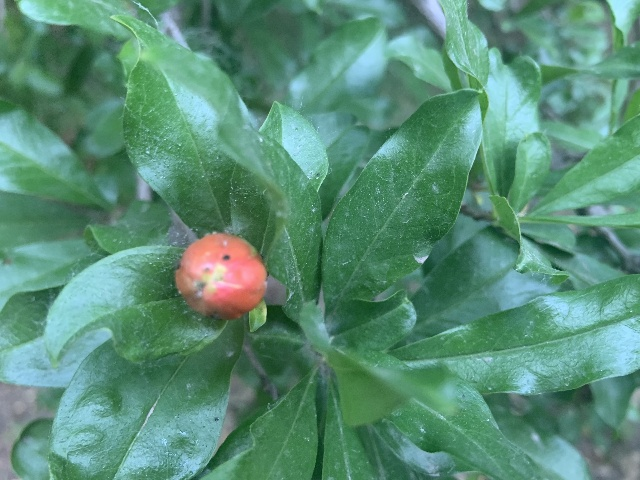bud: (174, 233, 266, 319)
